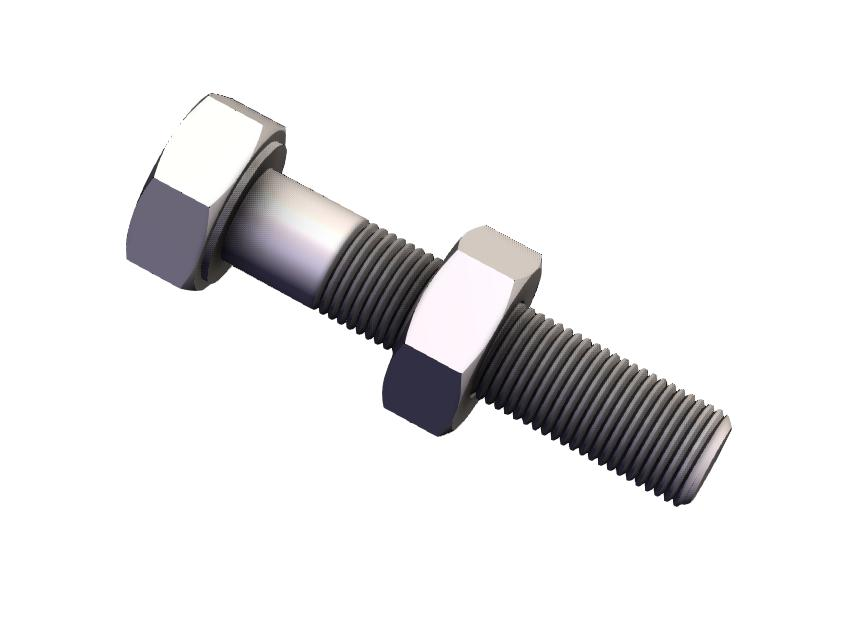bolt_c: (379, 221, 544, 439), (122, 87, 287, 295)
